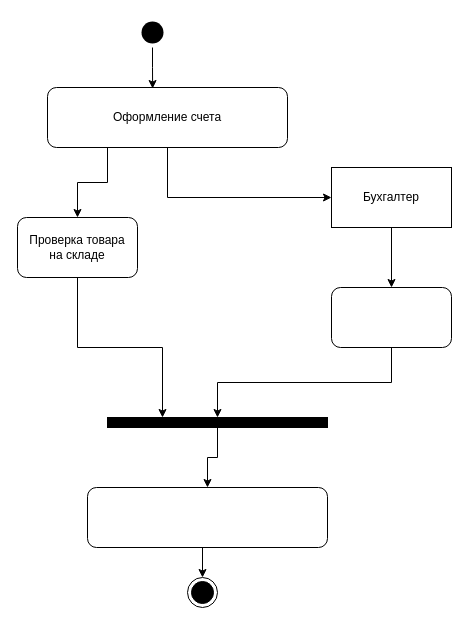
Image size: 469x625. Some labels were removed from this diagram. Here are the shapes that lost their labels. From the top down, the centre of each, then its label:
At (x=391, y=317): "Оформление накладных".
At (x=207, y=517): "Оформление заказа".
